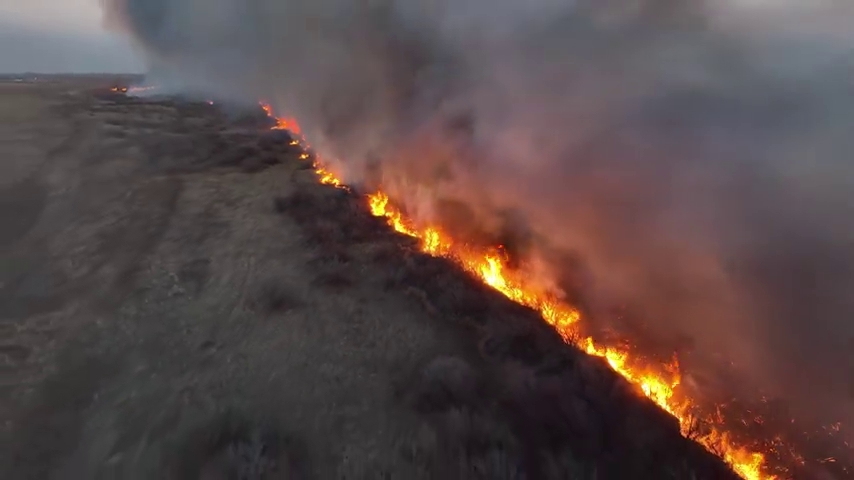forest_fire: (367, 192, 779, 479), (260, 102, 298, 135), (312, 159, 344, 186), (292, 140, 306, 147), (302, 153, 308, 158)
